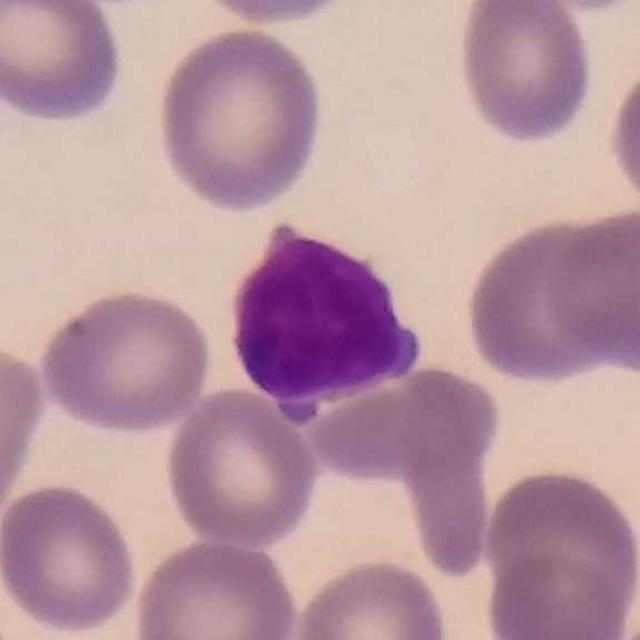Lymphocyte: (216, 210, 427, 416)
RBC: (150, 22, 330, 216), (458, 212, 629, 390), (478, 462, 639, 638), (37, 285, 216, 436), (161, 384, 322, 551), (302, 360, 506, 486), (0, 478, 141, 637), (453, 0, 599, 148), (129, 534, 302, 640), (398, 402, 500, 581), (543, 203, 640, 377), (0, 0, 127, 126), (287, 553, 452, 640), (0, 341, 50, 534), (603, 51, 640, 222), (189, 0, 370, 28), (500, 0, 640, 14)
